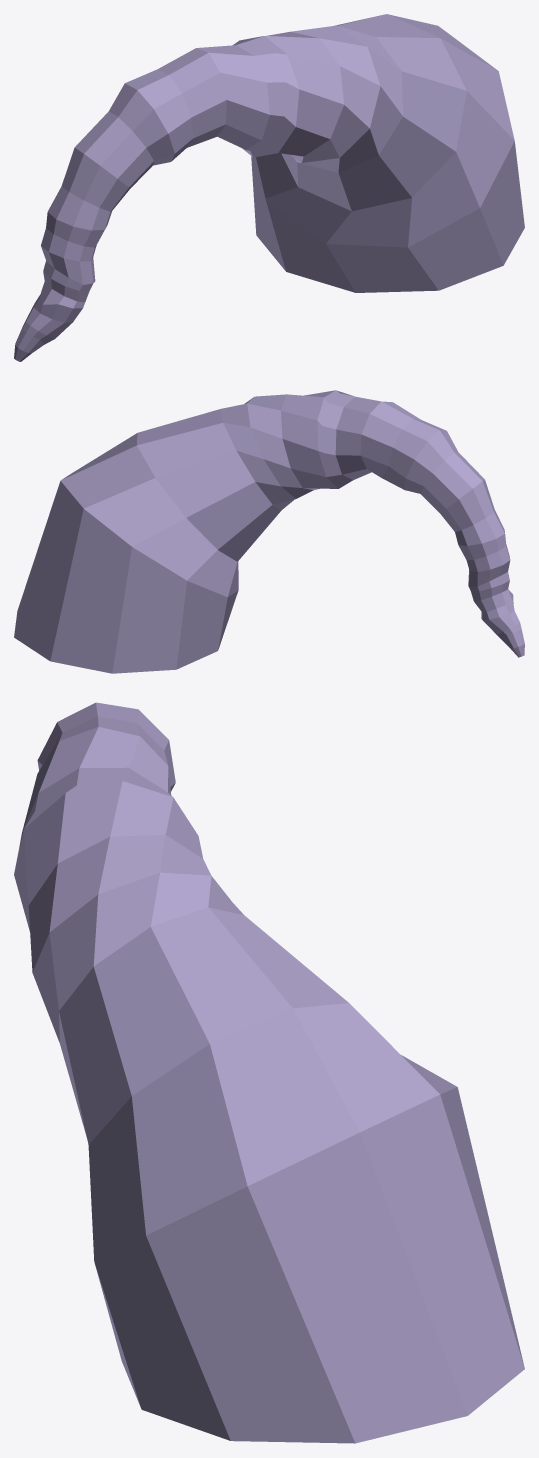
The model's file is arcos.fbx.
3 views of the same model, one above another, from view 1: azimuth 30°, elevation 25°; view 2: azimuth 150°, elevation 25°; view 3: azimuth 270°, elevation 25° (orthographic). The views are drawn at different scales.
Visible parts, largest first — view 1: ARCO; view 2: ARCO; view 3: ARCO.
Boxes of the visible parts, <box> form: ARCO: <box>14,14,524,361</box>; ARCO: <box>14,390,524,673</box>; ARCO: <box>14,702,524,1443</box>.
Size of the model in its own units: 9.86 by 5.11 by 5.16.
